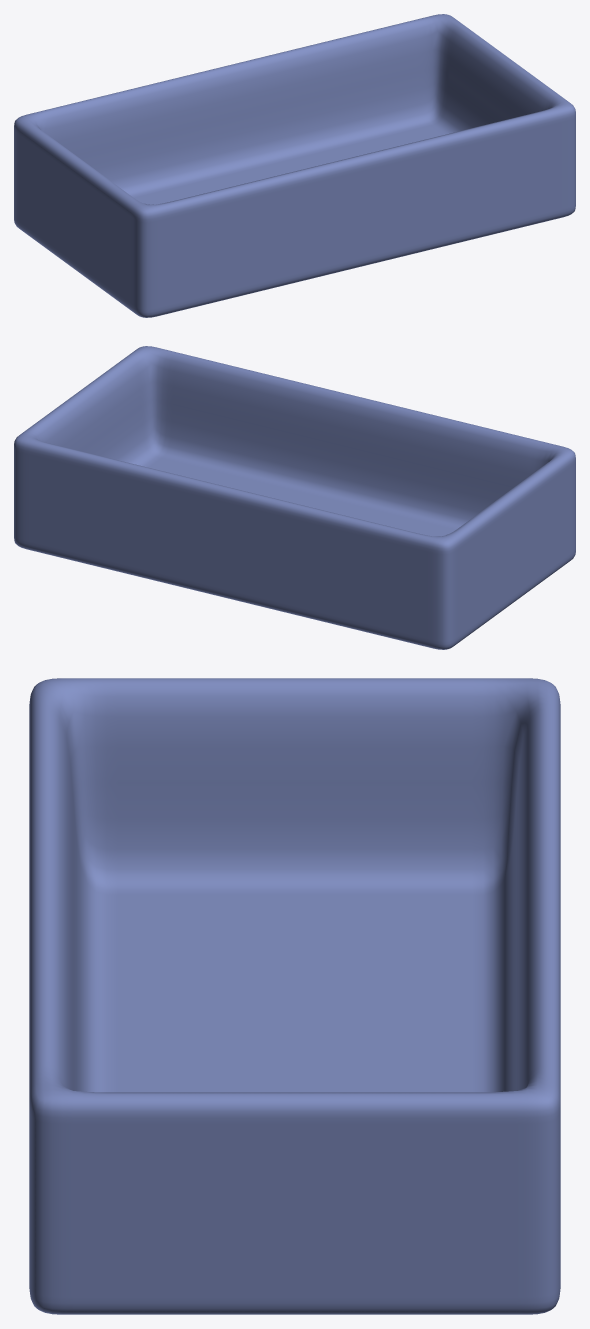
File: BathtubBaseModel.fbx
3 views of the same model, one above another, from view 1: azimuth 30°, elevation 25°; view 2: azimuth 150°, elevation 25°; view 3: azimuth 270°, elevation 25° (orthographic). The views are drawn at different scales.
Visible parts, largest first — view 1: pCube1; view 2: pCube1; view 3: pCube1.
Part boxes in pixels (bbox=[...]): pCube1: bbox=[14, 14, 575, 317]; pCube1: bbox=[14, 346, 575, 649]; pCube1: bbox=[29, 678, 560, 1314].
Size of the model in its own units: 7.85 by 1.89 by 4.11.
